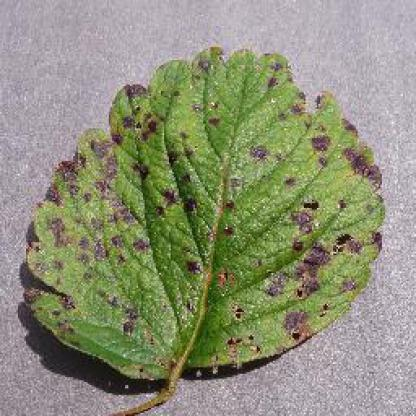leaf scorch: (17, 20, 396, 414)
